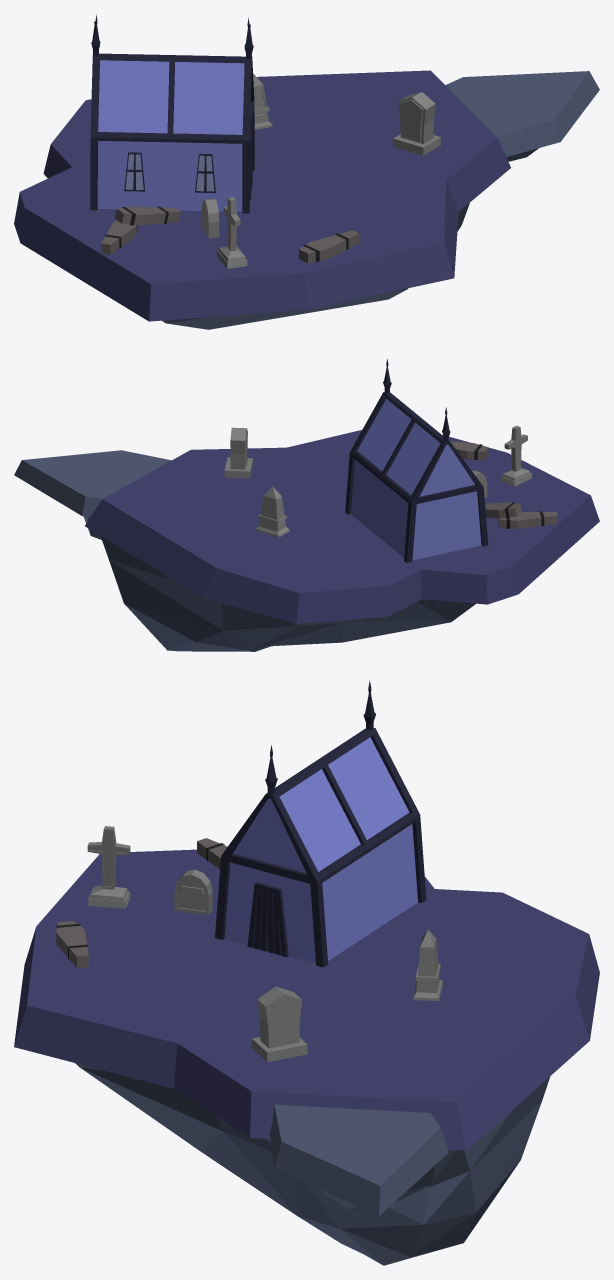
File: Склеп с домом.fbx
The picture shows the model from 3 angles, top to bottom: view 1: azimuth 30°, elevation 25°; view 2: azimuth 150°, elevation 25°; view 3: azimuth 270°, elevation 25°; orthographic projection. The views are drawn at different scales.
Parts seen in each view (by area): view 1: Cube.032, Cube.018, Cube.033, Cube.019, Cube.056, Cube.078, Cube.069, Cube.027, Cube.052, Cube.026, Cube.051, Cube.068 (+1 smaller); view 2: Cube.032, Cube.018, Cube.033, Cube.019, Cube.051, Cube.056, Cube.052, Cube.026, Cube.027, Cube.069; view 3: Cube.032, Cube.018, Cube.033, Cube.019, Cube.056, Cube.052, Cube.051, Cube.068, Cube.024, Cube.069, Cube.023.
Boxes of the visible parts, bbox=[...] form: Cube.032: bbox=[14, 70, 510, 329]; Cube.018: bbox=[97, 60, 244, 211]; Cube.033: bbox=[445, 71, 599, 161]; Cube.019: bbox=[90, 53, 254, 213]; Cube.056: bbox=[393, 92, 440, 155]; Cube.078: bbox=[124, 152, 215, 192]; Cube.069: bbox=[299, 230, 359, 263]; Cube.027: bbox=[115, 206, 180, 225]; Cube.052: bbox=[216, 197, 247, 268]; Cube.026: bbox=[101, 220, 137, 254]; Cube.051: bbox=[253, 73, 272, 129]; Cube.068: bbox=[202, 198, 219, 238]; Cube.032: bbox=[85, 430, 599, 651]; Cube.018: bbox=[351, 399, 481, 560]; Cube.033: bbox=[14, 450, 171, 539]; Cube.019: bbox=[345, 392, 488, 562]; Cube.051: bbox=[255, 486, 289, 537]; Cube.056: bbox=[224, 427, 253, 478]; Cube.052: bbox=[500, 425, 532, 486]; Cube.026: bbox=[498, 511, 557, 528]; Cube.027: bbox=[485, 502, 521, 518]; Cube.069: bbox=[450, 441, 488, 459]; Cube.032: bbox=[14, 849, 599, 1265]; Cube.018: bbox=[224, 737, 417, 963]; Cube.033: bbox=[269, 1104, 448, 1216]; Cube.019: bbox=[215, 728, 426, 967]; Cube.056: bbox=[252, 986, 307, 1062]; Cube.052: bbox=[87, 826, 130, 908]; Cube.051: bbox=[413, 929, 442, 1000]; Cube.068: bbox=[174, 869, 212, 914]; Cube.024: bbox=[254, 888, 281, 955]; Cube.069: bbox=[56, 921, 88, 968]; Cube.023: bbox=[247, 882, 288, 957].
Bounding box in the file's own units: 776 × 429 × 562.
